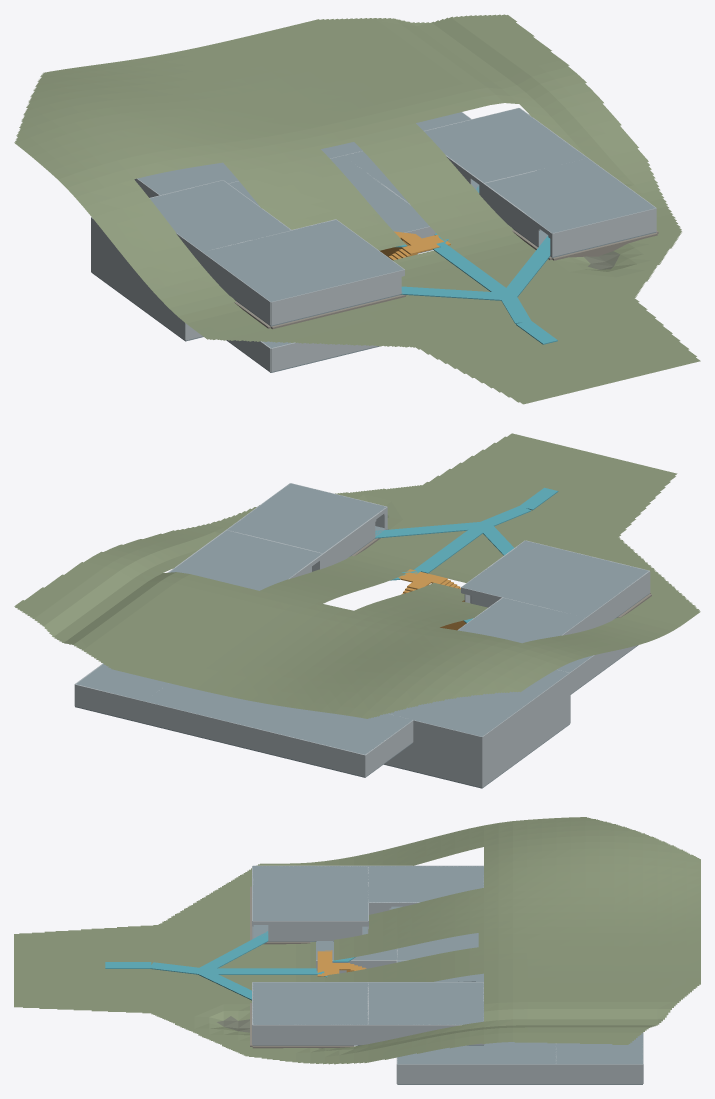
File: supported-arrival.glb
3 renders of one model, top to bottom at view 1: azimuth 30°, elevation 25°; view 2: azimuth 150°, elevation 25°; view 3: azimuth 270°, elevation 25°, orthographic. The views are drawn at different scales.
Parts seen in each view (by area): view 1: Saved editor macroterrain WLD-05, Ceiling cap shack, Ceiling cap assay, Ceiling cap wash, Ceiling cap stores, Flat route shell Wall shack S, Wall lower W, Wall assay S, Ceiling cap cross, Wall vent S, Wall shack W, Ceiling cap haul.004 (+8 smaller); view 2: Saved editor macroterrain WLD-05, Ceiling cap shack, Ceiling cap cross, Ceiling cap assay, Ceiling cap wash, Wall cross N, Ceiling cap ore-west, Ceiling cap stores, Wall lower W, Wall lower N, Wall ore-west W, Ceiling cap lift (+8 smaller); view 3: Saved editor macroterrain WLD-05, Ceiling cap shack, Ceiling cap assay, Ceiling cap wash, Ceiling cap stores, Wall ore-east E, Ceiling cap ore-east, Wall assay E, Ceiling cap lift, Flat route shell Wall shack E, Wall lift E, Ceiling cap ore-west (+4 smaller).
Part boxes in pixels (x1=…): Saved editor macroterrain WLD-05: x1=14, y1=14, x2=700, y2=404; Ceiling cap shack: x1=203, y1=220, x2=403, y2=301; Ceiling cap assay: x1=485, y1=158, x2=655, y2=233; Ceiling cap wash: x1=424, y1=108, x2=586, y2=182; Ceiling cap stores: x1=150, y1=180, x2=290, y2=251; Flat route shell Wall shack S: x1=271, y1=269, x2=404, y2=325; Wall lower W: x1=91, y1=241, x2=185, y2=340; Wall assay S: x1=552, y1=208, x2=656, y2=256; Ceiling cap cross: x1=137, y1=142, x2=362, y2=195; Wall vent S: x1=271, y1=342, x2=376, y2=371; Wall shack W: x1=202, y1=252, x2=270, y2=325; Ceiling cap haul.004: x1=363, y1=190, x2=429, y2=232; Saved editor macroterrain WLD-05: x1=14, y1=433, x2=700, y2=718; Ceiling cap shack: x1=462, y1=540, x2=648, y2=617; Ceiling cap cross: x1=144, y1=683, x2=412, y2=754; Ceiling cap assay: x1=227, y1=483, x2=386, y2=553; Ceiling cap wash: x1=169, y1=530, x2=322, y2=590; Wall cross N: x1=144, y1=701, x2=365, y2=776; Ceiling cap ore-west: x1=388, y1=669, x2=569, y2=736; Ceiling cap stores: x1=458, y1=598, x2=585, y2=643; Wall lower W: x1=482, y1=694, x2=570, y2=787; Wall lower N: x1=385, y1=742, x2=482, y2=787; Wall ore-west W: x1=482, y1=673, x2=570, y2=758; Ceiling cap lift: x1=76, y1=663, x2=168, y2=700; Saved editor macroterrain WLD-05: x1=14, y1=817, x2=700, y2=1064; Ceiling cap shack: x1=252, y1=866, x2=368, y2=920; Ceiling cap assay: x1=252, y1=982, x2=368, y2=1024; Ceiling cap wash: x1=368, y1=982, x2=483, y2=1024; Ceiling cap stores: x1=368, y1=866, x2=483, y2=902; Wall ore-east E: x1=397, y1=1064, x2=556, y2=1084; Ceiling cap ore-east: x1=397, y1=1042, x2=556, y2=1064; Wall assay E: x1=252, y1=1024, x2=368, y2=1044; Ceiling cap lift: x1=556, y1=1033, x2=642, y2=1064; Flat route shell Wall shack E: x1=268, y1=921, x2=368, y2=940; Wall lift E: x1=556, y1=1064, x2=642, y2=1084; Ceiling cap ore-west: x1=397, y1=933, x2=478, y2=959.
Size of the model in its own units: 70 by 17.77 by 95.
